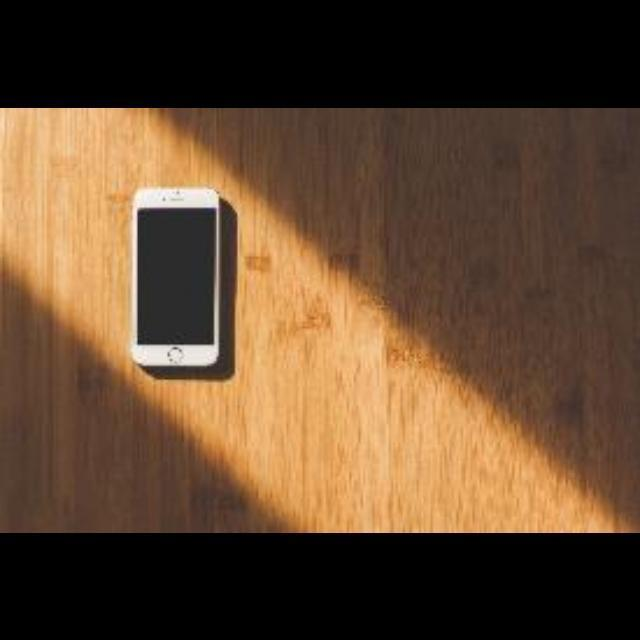PhoneUse: (131, 184, 219, 370)
